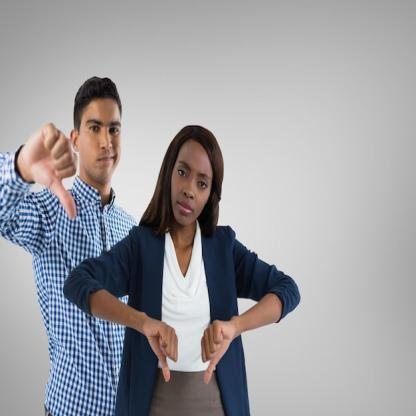thumb_down: (22, 118, 82, 220), (140, 306, 181, 385), (198, 312, 232, 388)
